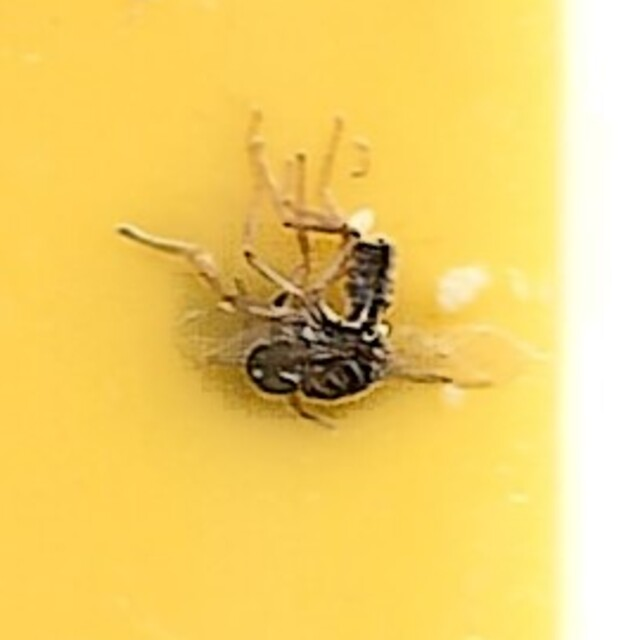Brachycera: (237, 225, 403, 415)
